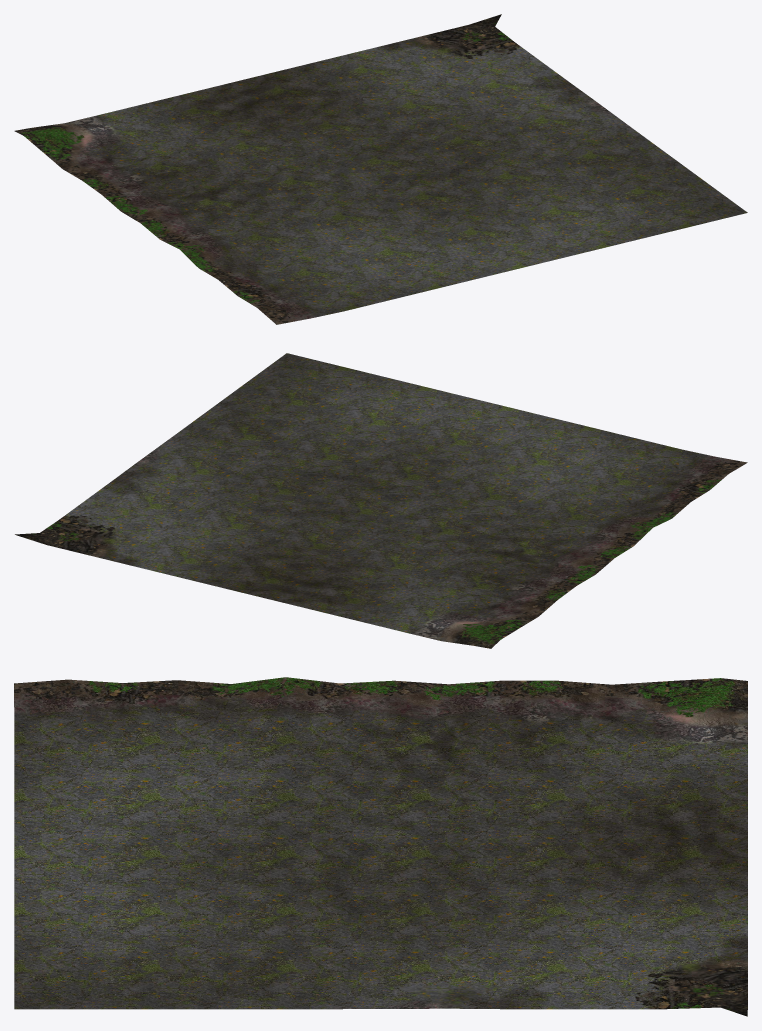
Rendered from terrain1.glb.
The picture shows the model from 3 angles, top to bottom: view 1: azimuth 30°, elevation 25°; view 2: azimuth 150°, elevation 25°; view 3: azimuth 270°, elevation 25°; orthographic projection. The views are drawn at different scales.
Visible parts, largest first — view 1: Terrain.001; view 2: Terrain.001; view 3: Terrain.001.
Part boxes in pixels (x1,y1,x2,y2): Terrain.001: (14, 14, 747, 324); Terrain.001: (15, 353, 747, 648); Terrain.001: (14, 677, 747, 1016).
Bounding box in the file's own units: 45.6 × 0.6674 × 42.51.
Materials: 1 (1 with a texture image).
